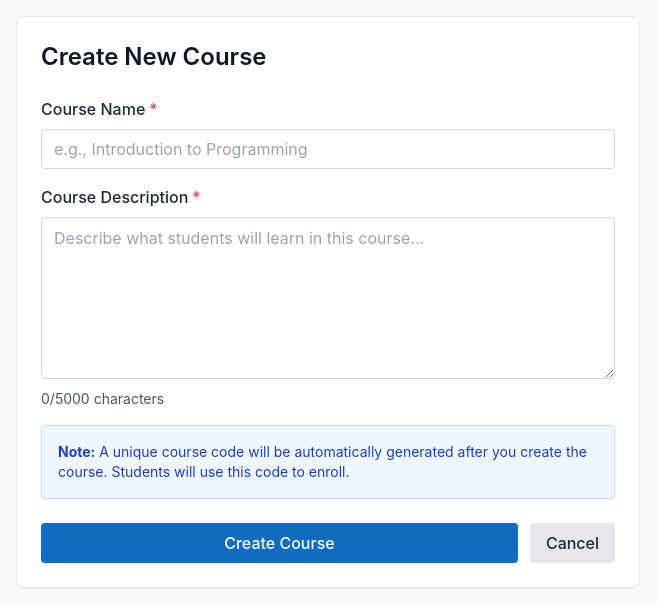
Test: CreateCourse › Form Submission › should show loading state during submission
This screenshot has width=657, height=605.
Type "Test Course" into the field labelled "Course Name*" at {"x": 328, "y": 149}, box 41,129 -> 615,169
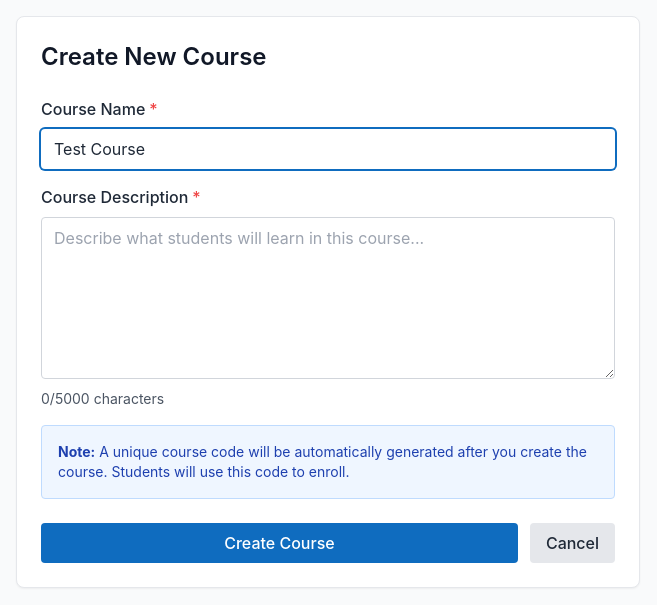
Type "Test description" into the text box labelled "Course Description*" at {"x": 328, "y": 298}, box 41,217 -> 615,379
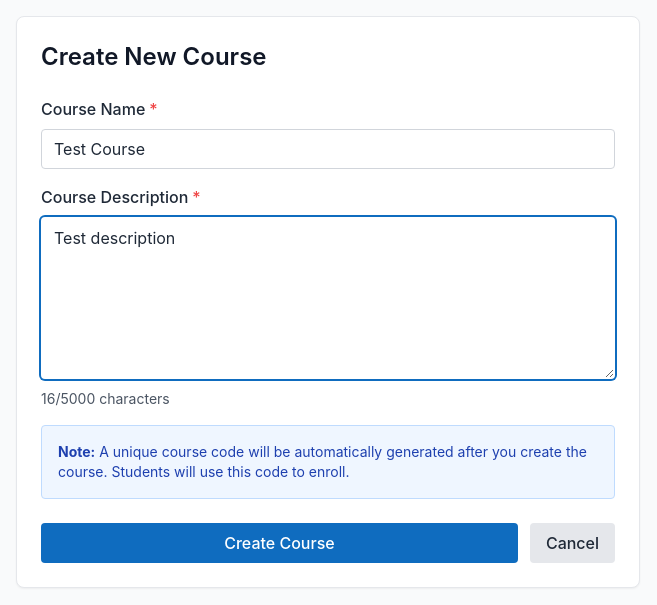
Click the button "Create Course" at {"x": 279, "y": 543}, box 41,523 -> 518,563
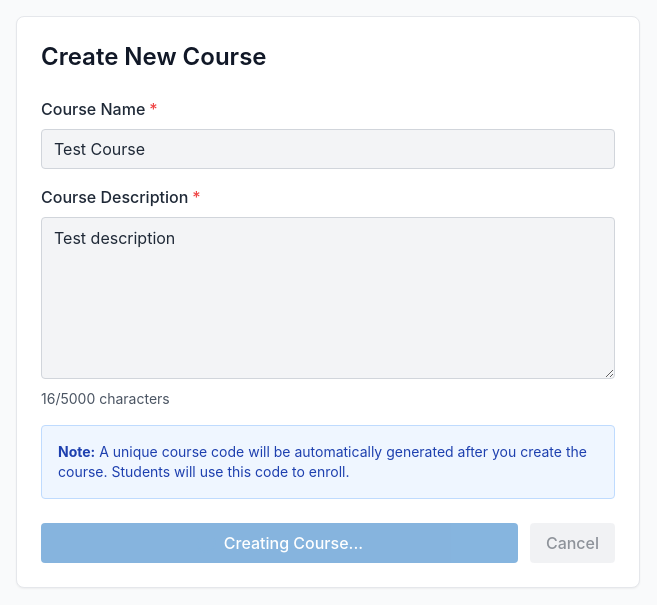
expect the field labelled "Course Name*" is disabled: met, box 41,129 -> 615,169
expect the text "Creating Course..." is shown: met, box 196,533 -> 363,553
expect the button named "create course" is disabled: met, box 41,523 -> 518,563
